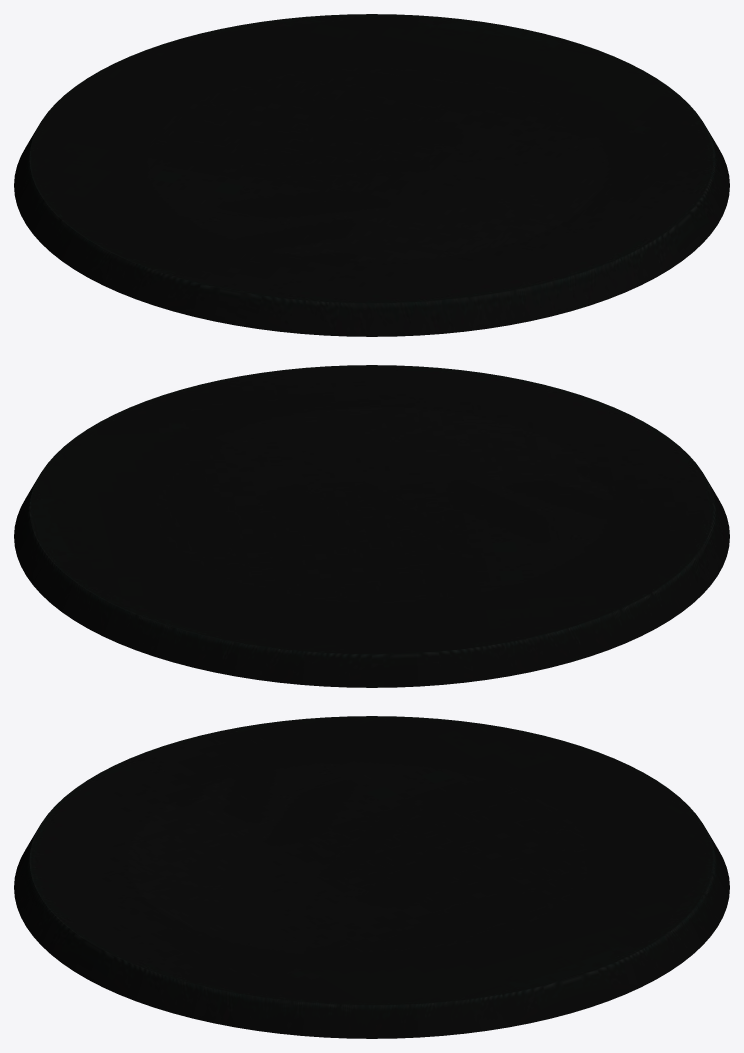
File: pedestal.glb
3 renders of one model, top to bottom at view 1: azimuth 30°, elevation 25°; view 2: azimuth 150°, elevation 25°; view 3: azimuth 270°, elevation 25°, orthographic.
Visible parts, largest first — view 1: baked_pedestal; view 2: baked_pedestal; view 3: baked_pedestal.
Boxes of the visible parts, x1=… form: baked_pedestal: x1=14, y1=14, x2=729, y2=336; baked_pedestal: x1=14, y1=365, x2=729, y2=687; baked_pedestal: x1=14, y1=716, x2=729, y2=1038.
Bounding box in the file's own units: 9.2 × 0.38 × 9.2.
1 material, 1 textured.
